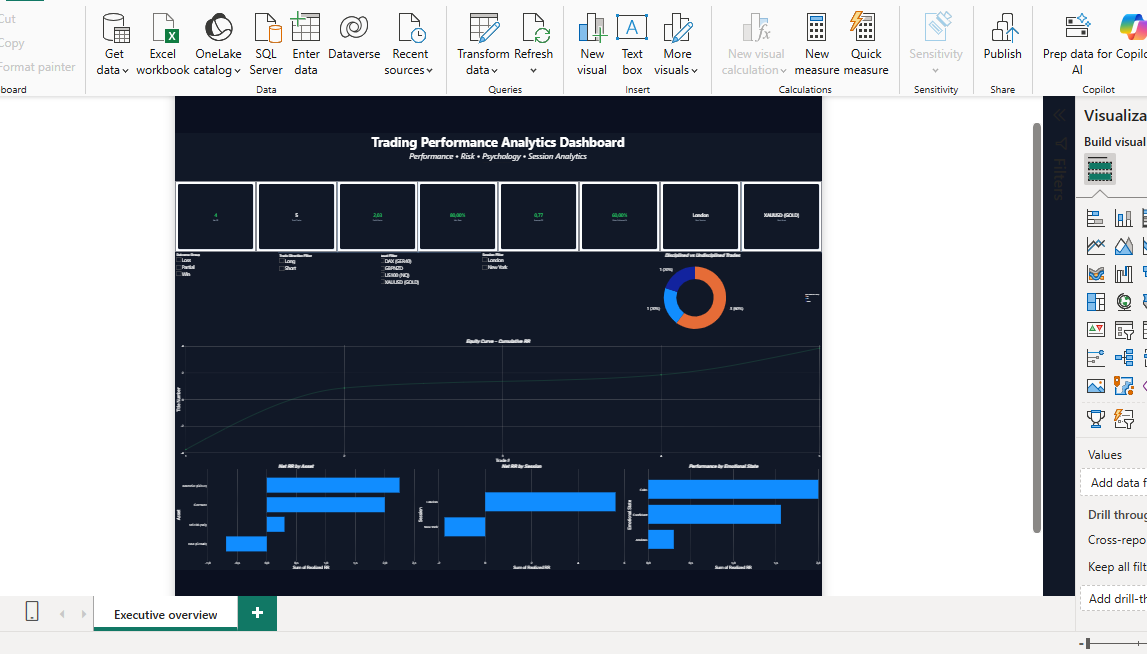

The page's visual inventory and layout, read from the dashboard file:
{"tool":"powerbi","page":{"name":"Executive overview","canvas":[6461,6000],"ordinal":0},"visuals":[{"type":"cardVisual","fields":{"Data":["tblCleanTrades.Net RR"]},"box":[0,1090,810,710],"z":0},{"type":"cardVisual","fields":{"Data":["tblCleanTrades.Win Rate"]},"box":[2420,1090,810,710],"z":1000},{"type":"cardVisual","fields":{"Data":["tblCleanTrades.Profit Factor"]},"box":[1620,1090,810,710],"z":2000},{"type":"cardVisual","fields":{"Data":["tblCleanTrades.Total Trades"]},"box":[810,1090,810,710],"z":3000},{"type":"lineChart","title":"Equity Curve - Cumulative RR","fields":{"Category":["tblCleanTrades.Trade #"],"Y":["Sum(tblCleanTrades.Cumulative RR)"]},"box":[0,2660,6460,1250],"z":4000},{"type":"clusteredBarChart","title":"Net RR by Asset","fields":{"Category":["tblCleanTrades.Asset"],"Y":["Sum(tblCleanTrades.Realized RR)"]},"box":[0,3910,2420,1070],"z":5000},{"type":"clusteredBarChart","title":"Net RR by Session","fields":{"Category":["tblCleanTrades.Session"],"Y":["Sum(tblCleanTrades.Realized RR)"]},"box":[2420,3910,2090,1070],"z":6000},{"type":"slicer","fields":{"Values":["tblCleanTrades.Asset"]},"box":[2030,1810,1030,850],"z":7000},{"type":"slicer","fields":{"Values":["tblCleanTrades.Session"]},"box":[3060,1800,1030,860],"z":8000},{"type":"slicer","fields":{"Values":["tblCleanTrades.Trade Direction"]},"box":[1030,1810,1030,850],"z":9000},{"type":"slicer","fields":{"Values":["tblCleanTrades.Outcome Group"]},"box":[0,1800,1030,860],"z":10000},{"type":"cardVisual","fields":{"Data":["tblCleanTrades.Average RR"]},"box":[3230,1090,810,710],"z":11000},{"type":"cardVisual","fields":{"Data":["tblCleanTrades.Best Asset"]},"box":[5660,1090,810,710],"z":12000},{"type":"cardVisual","fields":{"Data":["tblCleanTrades.Best Session"]},"box":[4850,1090,810,710],"z":13000},{"type":"cardVisual","fields":{"Data":["tblCleanTrades.Rules Followed %"]},"box":[4040,1090,810,710],"z":14000},{"type":"clusteredBarChart","title":"Performance by Emotional State","fields":{"Category":["tblCleanTrades.Emotional State"],"Y":["Sum(tblCleanTrades.Realized RR)"]},"box":[4510,3910,1950,1070],"z":15000},{"type":"donutChart","title":"Disciplined vs Undisciplined Trades","fields":{"Category":["tblCleanTrades.Rules Followed Group"],"Y":["CountNonNull(tblCleanTrades.Trade ID)"]},"box":[4090,1800,2370,860],"z":16000},{"type":"textbox","box":[0,610,6460,480],"z":17000}]}

Visuals, with their boxes on the page's 6461x6000 design canvas (x1, y1, x2, y2). These are canvas units, not pixel positions in the 1147x654 screenshot, which may show the page scaled, cropped or inside an application window:
cardVisual - tblCleanTrades.Net RR: 0,1090,810,1800
cardVisual - tblCleanTrades.Win Rate: 2420,1090,3230,1800
cardVisual - tblCleanTrades.Profit Factor: 1620,1090,2430,1800
cardVisual - tblCleanTrades.Total Trades: 810,1090,1620,1800
"Equity Curve - Cumulative RR" lineChart: 0,2660,6460,3910
"Net RR by Asset" clusteredBarChart: 0,3910,2420,4980
"Net RR by Session" clusteredBarChart: 2420,3910,4510,4980
slicer - tblCleanTrades.Asset: 2030,1810,3060,2660
slicer - tblCleanTrades.Session: 3060,1800,4090,2660
slicer - tblCleanTrades.Trade Direction: 1030,1810,2060,2660
slicer - tblCleanTrades.Outcome Group: 0,1800,1030,2660
cardVisual - tblCleanTrades.Average RR: 3230,1090,4040,1800
cardVisual - tblCleanTrades.Best Asset: 5660,1090,6470,1800
cardVisual - tblCleanTrades.Best Session: 4850,1090,5660,1800
cardVisual - tblCleanTrades.Rules Followed %: 4040,1090,4850,1800
"Performance by Emotional State" clusteredBarChart: 4510,3910,6460,4980
"Disciplined vs Undisciplined Trades" donutChart: 4090,1800,6460,2660
textbox: 0,610,6460,1090
